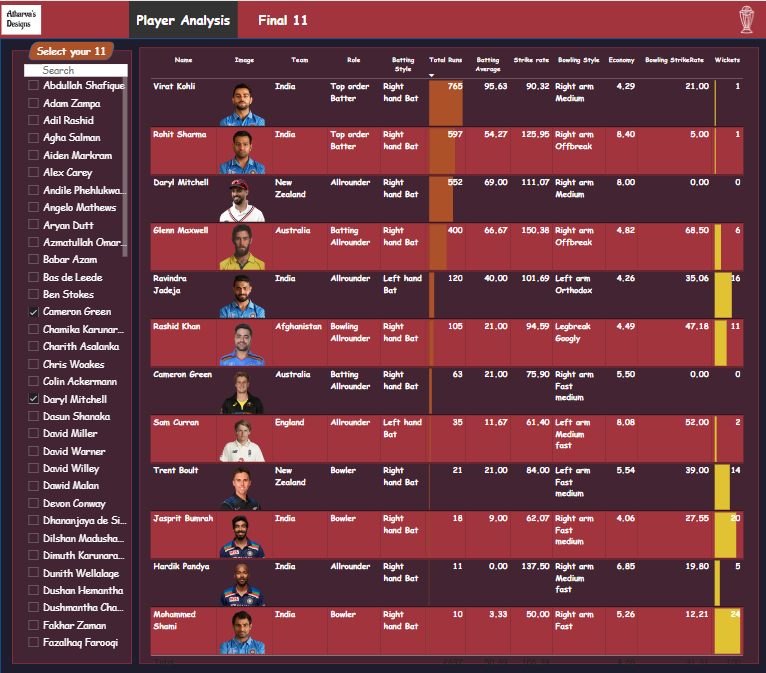

This screenshot's page, from the dashboard's own definition file:
{"tool":"powerbi","page":{"name":"New Final 11","canvas":[1280,720],"ordinal":5},"visuals":[{"type":"shape","box":[0,63.3,1279.9,657.2],"z":0},{"type":"shape","box":[18.9,83.5,201.6,625.3],"z":1000},{"type":"image","box":[3.2,0,66.2,63],"z":2000},{"type":"image","box":[1206.6,0,73.3,61.8],"z":3000},{"type":"actionButton","box":[409.9,0,125.1,61.8],"z":4000},{"type":"actionButton","box":[215.7,0,181.2,61.8],"z":5000},{"type":"shape","box":[233.1,77.2,1031.7,631.6],"z":6000},{"type":"group","id":"g1","title":"Group 1","box":[19.1,115,193.7,584.4],"z":7000},{"type":"shape","box":[45.7,67.7,148.1,31.5],"z":8000},{"type":"tableEx","fields":{"Values":["dim_players.player_name","dim_players.image_of_player","dim_players.team_name","dim_player.Playing Role","dim_player.Batting Style","Key_measures.Total Runs","Key_measures.Batting Avg","Key_measures.Strike rate","dim_player.Bowling Style","Key_measures.Economy","Key_measures.Bowling Strike Rate","Key_measures.wickets"]},"box":[244.5,83.4,1009.6,615.5],"z":9000},{"type":"slicer","fields":{"Values":["dim_players.player_name"]},"box":[19.1,115,193.7,584.4],"z":11000,"group":"g1"}]}

Visuals, with their boxes on the page's 1280x720 design canvas (x1, y1, x2, y2). These are canvas units, not pixel positions in the 766x673 screenshot, which may show the page scaled, cropped or inside an application window:
shape: 0:63:1280:720
shape: 19:84:220:709
image: 3:0:69:63
image: 1207:0:1280:62
actionButton: 410:0:535:62
actionButton: 216:0:397:62
shape: 233:77:1265:709
"Group 1" group: 19:115:213:699
shape: 46:68:194:99
tableEx - dim_players.player_name x dim_players.image_of_player: 244:83:1254:699
slicer - dim_players.player_name: 19:115:213:699
